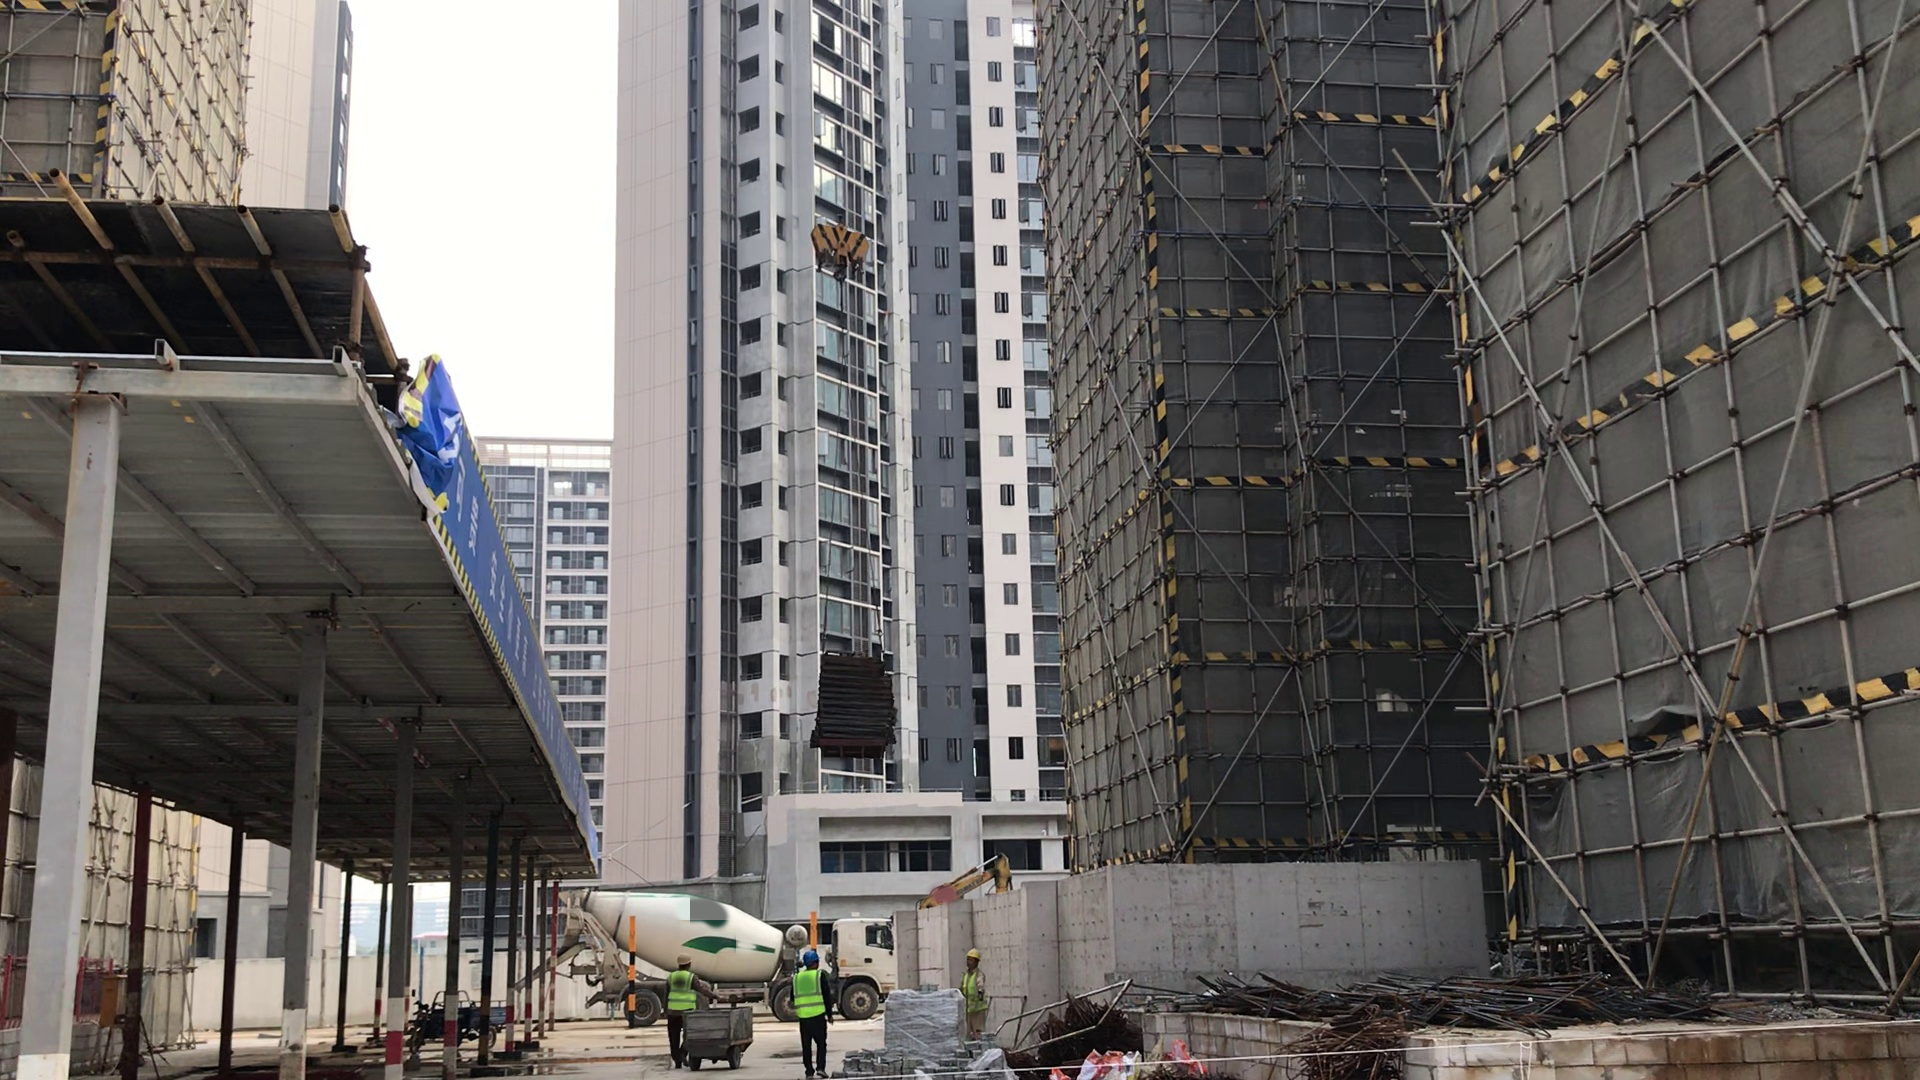helmet: (960, 942, 985, 962), (671, 946, 694, 967), (802, 942, 821, 965)
person: (793, 948, 835, 1080), (959, 943, 1003, 1040), (671, 959, 703, 1071)
vest: (666, 970, 705, 1020), (786, 972, 826, 1015), (963, 968, 992, 1009)
